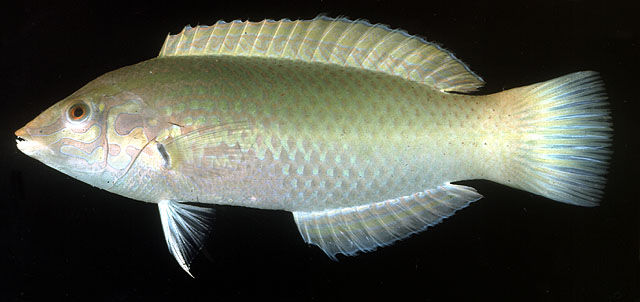fish: (14, 13, 614, 280)
